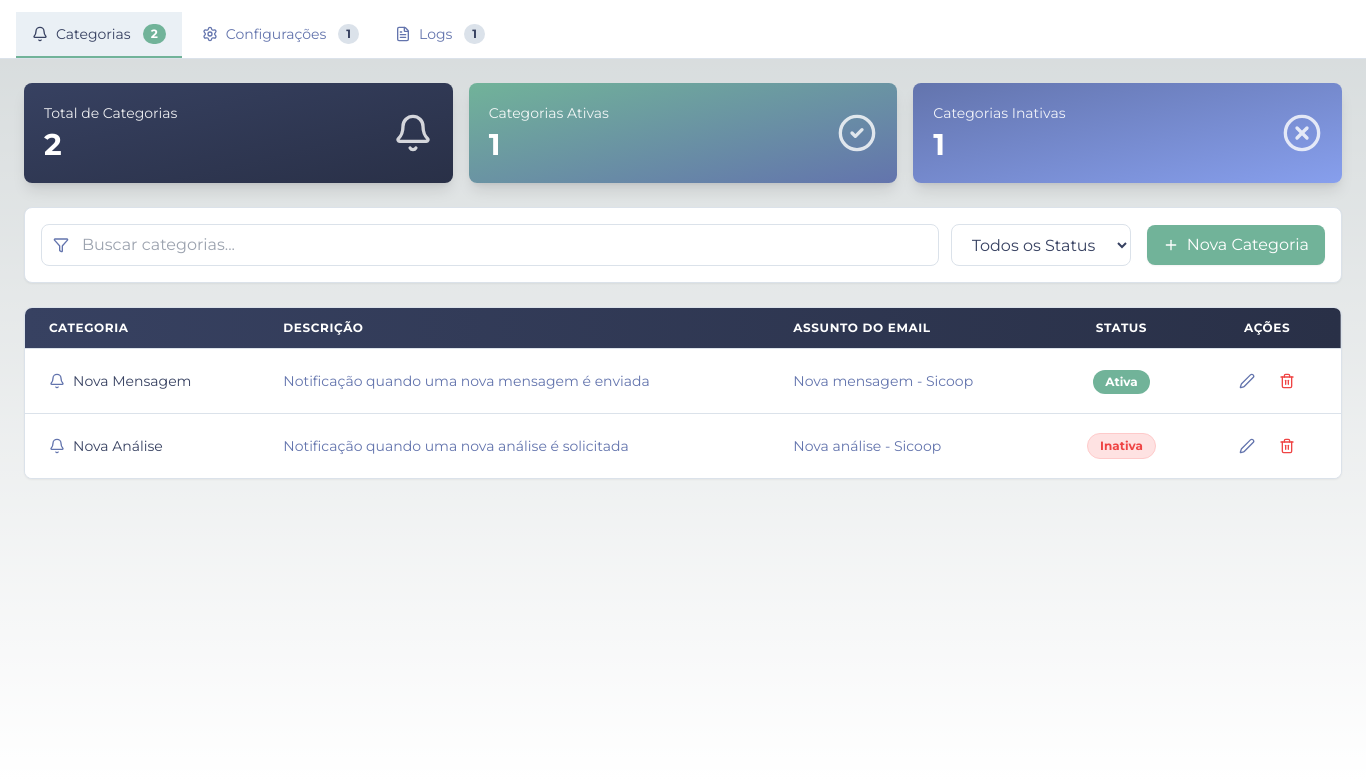
NotificationsManager › navegação entre tabs › deve alternar para a tab de configurações
The image size is (1366, 780).
What coordinates should you click on to do the following:
click the button "Configurações 1"
I would click on:
 (280, 35)
Its box is [186,12,375,58].
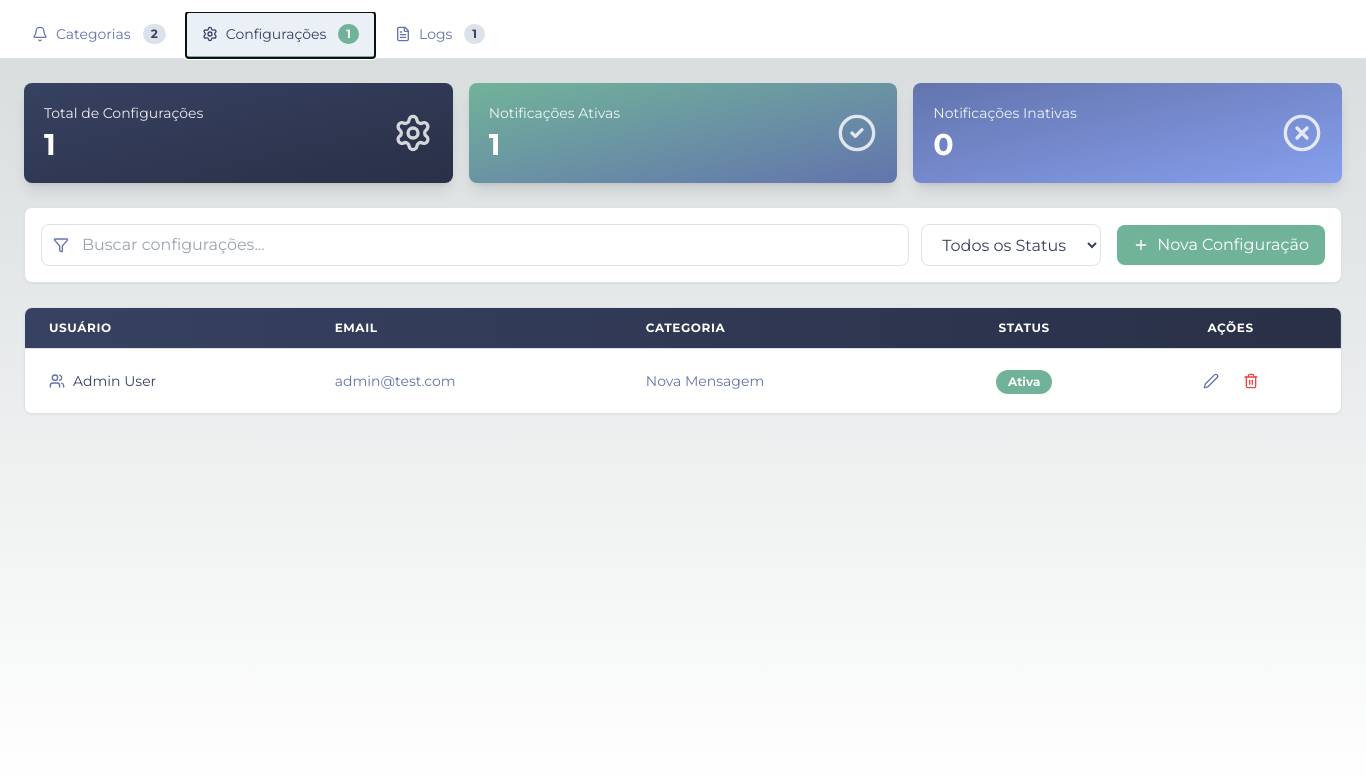
Now the button "Nova Configuração" is shown, box [1117,225,1325,265]
Now the text "Admin User" is shown, box [73,371,156,391]
